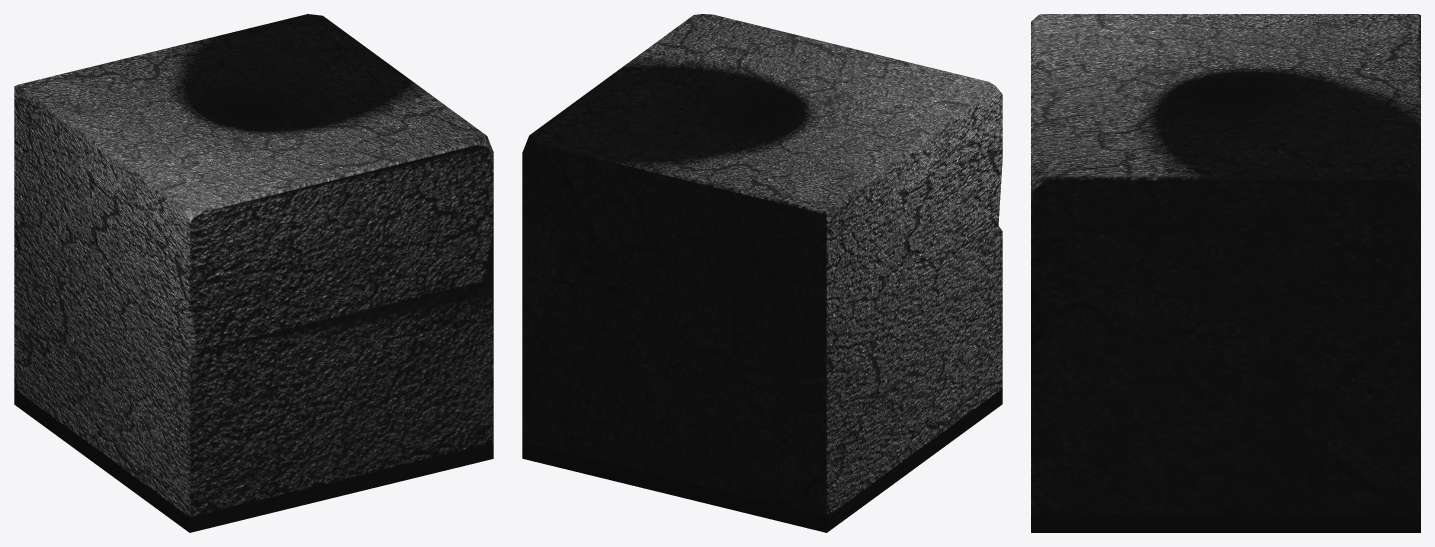
The model's file is PodiumBaked-optimized.glb.
The picture shows the model from 3 angles, left to right: view 1: azimuth 30°, elevation 25°; view 2: azimuth 150°, elevation 25°; view 3: azimuth 270°, elevation 25°; orthographic projection. The views are drawn at different scales.
Parts seen in each view (by area): view 1: Cube_Baked; view 2: Cube_Baked; view 3: Cube_Baked.
Part boxes in pixels (<box>): Cube_Baked: <box>14,14,493,532</box>; Cube_Baked: <box>522,14,1002,532</box>; Cube_Baked: <box>1031,14,1420,532</box>.
Bounding box in the file's own units: 1.99 × 2 × 1.99.
Materials: 1 (1 with a texture image).
